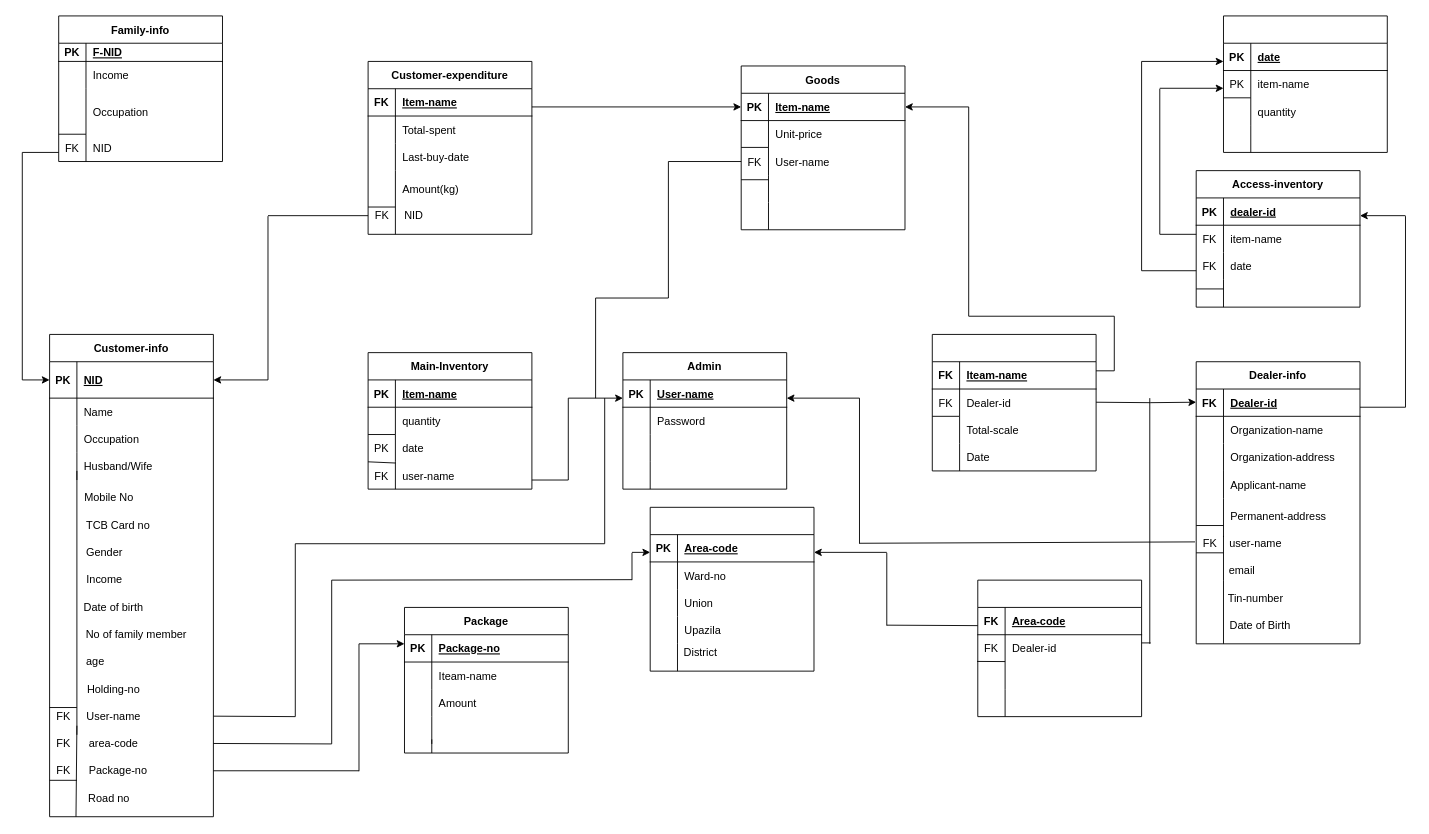
Image size: 1429x834. Some labels were removed from this diagram. The shapes that lost their labels are listed below. From the top down, each one's box as (x1, y1, x2, y2) in pixels, then its label:
(1223, 15, 1387, 152): dealer-inventory
(931, 334, 1096, 471): Items-distributed
(649, 506, 814, 671): Distribution-Area
(977, 579, 1142, 717): Dealer-area
